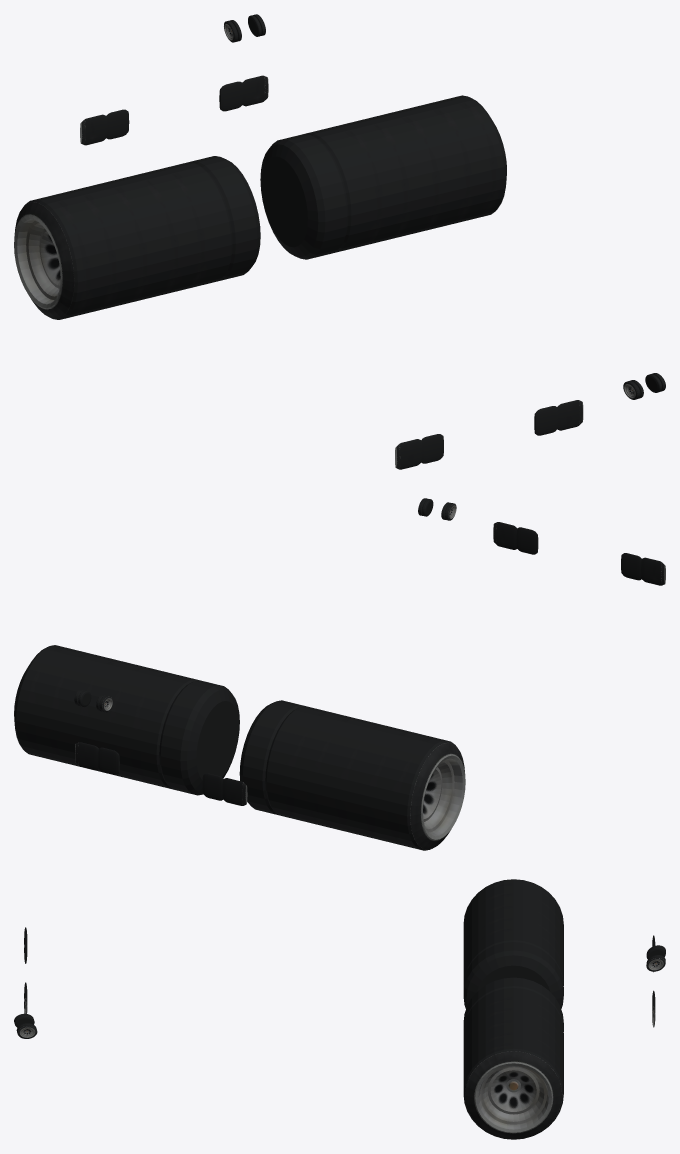
Rendered from avant.dae.
3 renders of one model, top to bottom at view 1: azimuth 30°, elevation 25°; view 2: azimuth 150°, elevation 25°; view 3: azimuth 270°, elevation 25°, orthographic. The views are drawn at different scales.
Visible parts, largest first — view 1: Sketchfab Stange.002_0, Sketchfab Stange_0, Boden, Sketchfab Stange.001_0, Sketchfab Stange.003_0, Sketchfab Nummernschild vorne.001_0, Sketchfab Nummernschild vorne_0; view 2: Sketchfab Stange.002_0, Sketchfab Stange_0, Sketchfab Stange.001_0, Sketchfab Stange.003_0, Boden, Sketchfab Nummernschild vorne.001_0, Sketchfab Nummernschild vorne_0; view 3: Sketchfab Stange_0, Sketchfab Stange.002_0, Sketchfab Stange.001_0, Boden, Sketchfab Stange.003_0, 01 Aufkleber Quadra vorne, 01 Aufkleber Quadra vorne.001.
Part boxes in pixels (bbox=[...]): Sketchfab Stange.002_0: bbox=[14, 124, 390, 319]; Sketchfab Stange_0: bbox=[154, 95, 506, 288]; Boden: bbox=[94, 110, 447, 304]; Sketchfab Stange.001_0: bbox=[124, 102, 478, 296]; Sketchfab Stange.003_0: bbox=[63, 117, 415, 311]; Sketchfab Nummernschild vorne.001_0: bbox=[80, 75, 268, 145]; Sketchfab Nummernschild vorne_0: bbox=[395, 400, 583, 469]; Sketchfab Stange.002_0: bbox=[121, 672, 465, 850]; Sketchfab Stange_0: bbox=[14, 645, 337, 823]; Sketchfab Stange.001_0: bbox=[40, 651, 364, 829]; Sketchfab Stange.003_0: bbox=[97, 665, 421, 843]; Boden: bbox=[68, 658, 391, 835]; Sketchfab Nummernschild vorne.001_0: bbox=[75, 742, 247, 805]; Sketchfab Nummernschild vorne_0: bbox=[493, 522, 665, 585]; Sketchfab Stange_0: bbox=[463, 925, 563, 1139]; Sketchfab Stange.002_0: bbox=[463, 879, 563, 1047]; Sketchfab Stange.001_0: bbox=[463, 914, 563, 1082]; Boden: bbox=[463, 902, 563, 1070]; Sketchfab Stange.003_0: bbox=[463, 890, 563, 1058]; 01 Aufkleber Quadra vorne: bbox=[14, 1013, 37, 1038]; 01 Aufkleber Quadra vorne.001: bbox=[646, 945, 665, 971].
Size of the model in its own units: 11.01 by 17.13 by 3.83.
1 material, 1 textured.
